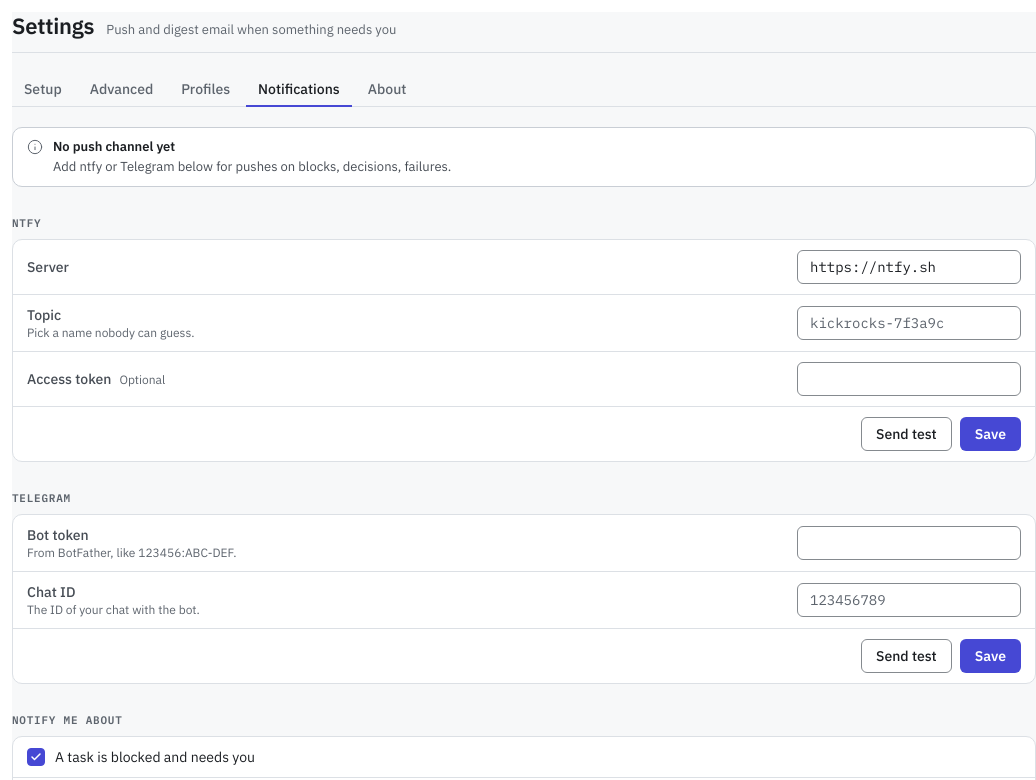
notification settings page › explains a topic that is not allowed and does not send it
In the field labelled "Topic": (909, 323) [797,306,1021,340], type "no spaces"
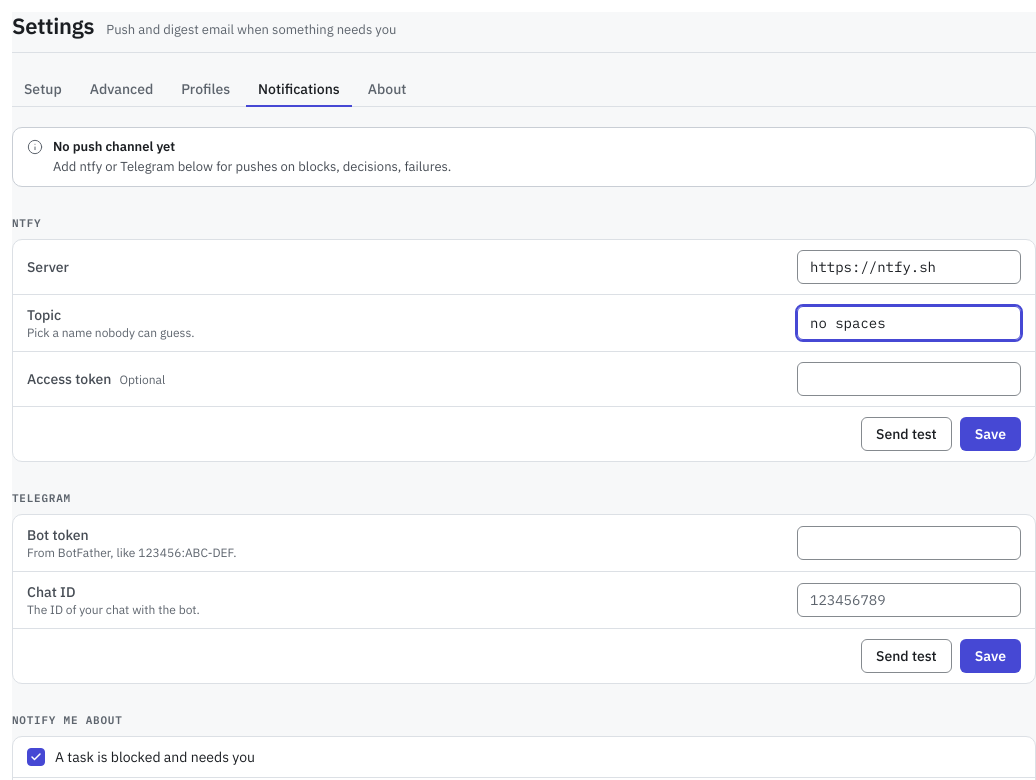
Click the button with aria-label "Save ntfy": (990, 434) [960,417,1021,451]
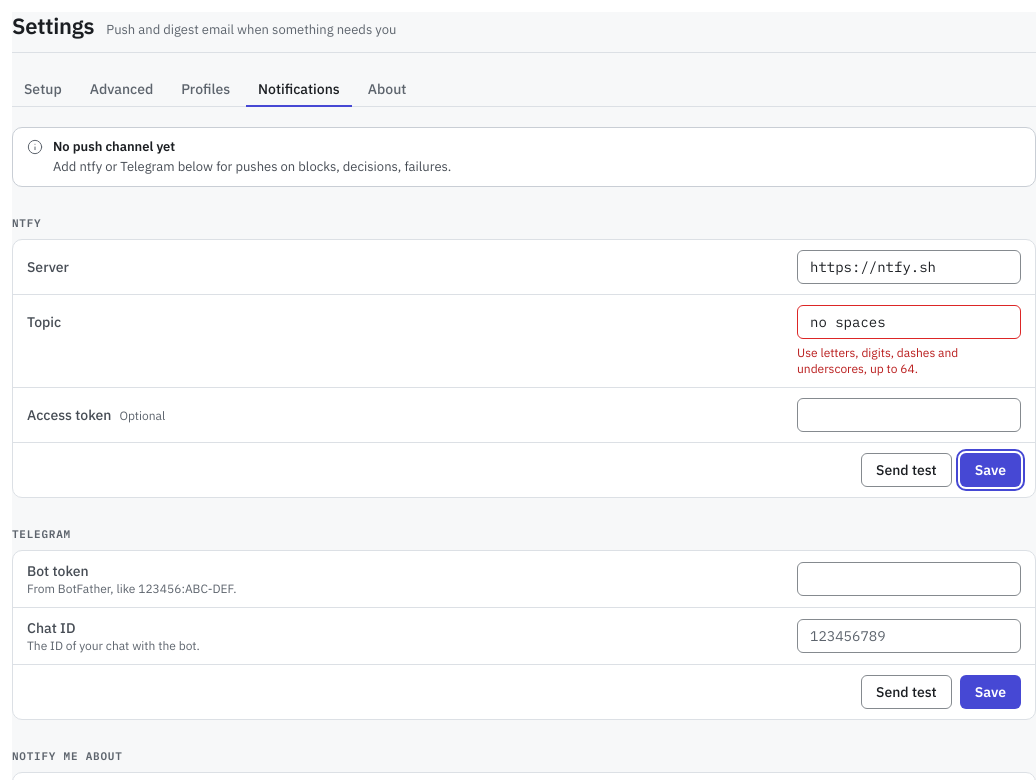
Check: the text "Use letters, digits, dashes and underscores, up to 64." is shown, box [797,345,958,376]
